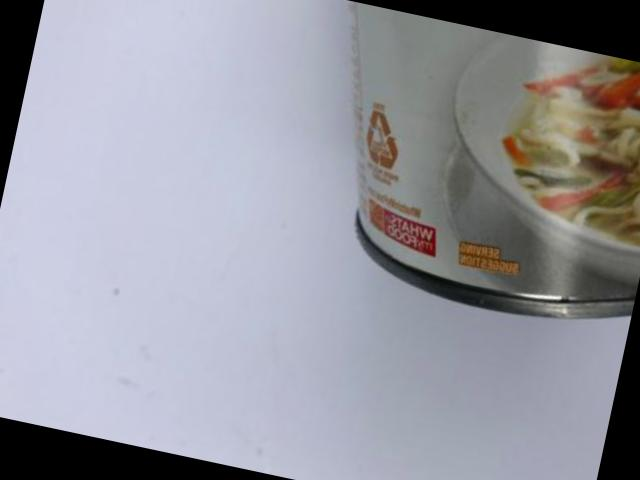metal: (347, 0, 640, 320)
